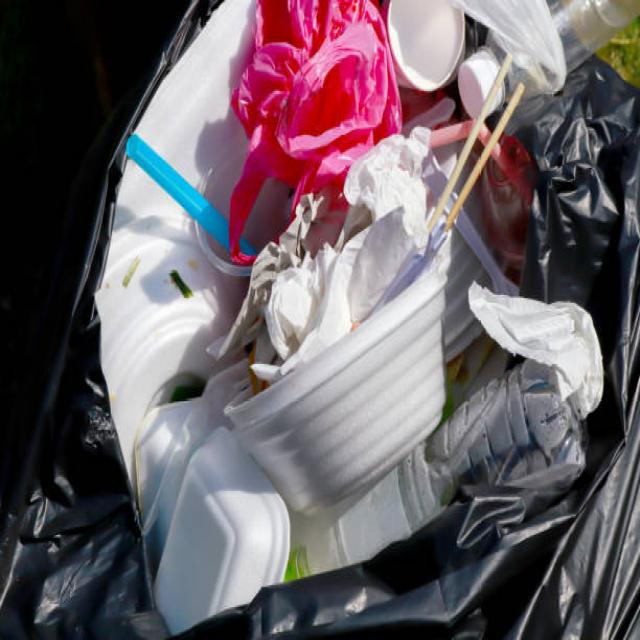plastic: (125, 29, 596, 566)
